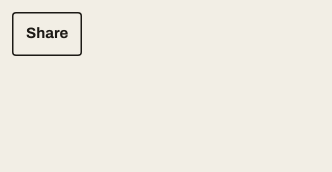
ShareButton › copies the link and says so when there is no share sheet
The image size is (332, 172).
Click the button "Share" at [47, 34], box [12, 12, 82, 56]
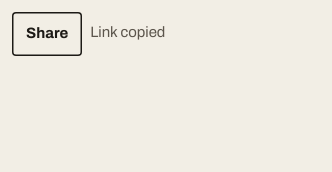
Expected: the message reads "Link copied", [90, 25, 165, 41]
